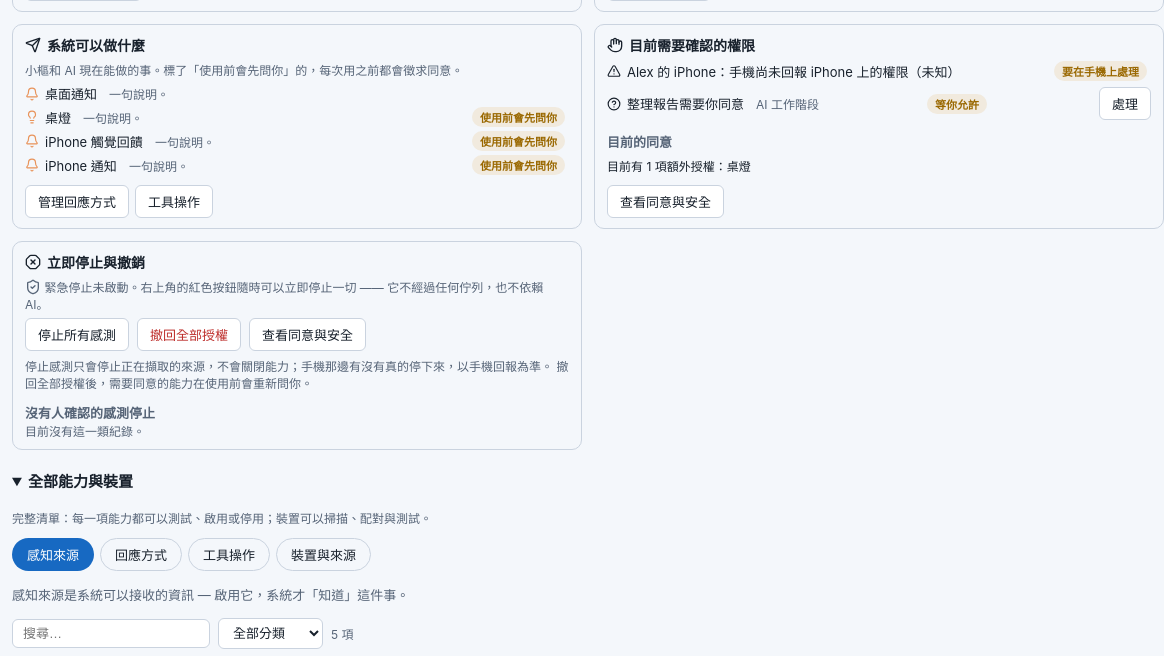
Test: 連接與權限：第一層五區（裝置優先） › 立即停止與撤銷：撤回失敗要說授權狀態未變
The width and height of the screenshot is (1164, 656).
(page scrolled)
Click the button "撤回全部授權" at (189, 334), box x1=137 y1=318 x2=241 y2=351
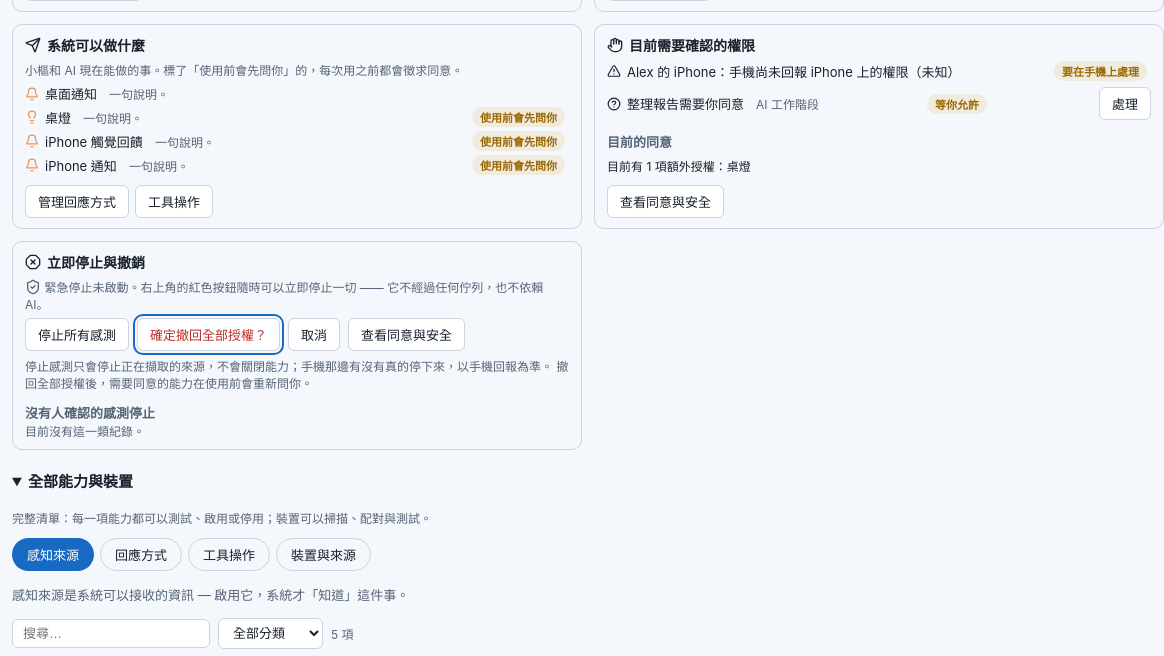
Click the button "確定撤回全部授權？" at (208, 334), box x1=137 y1=318 x2=280 y2=351
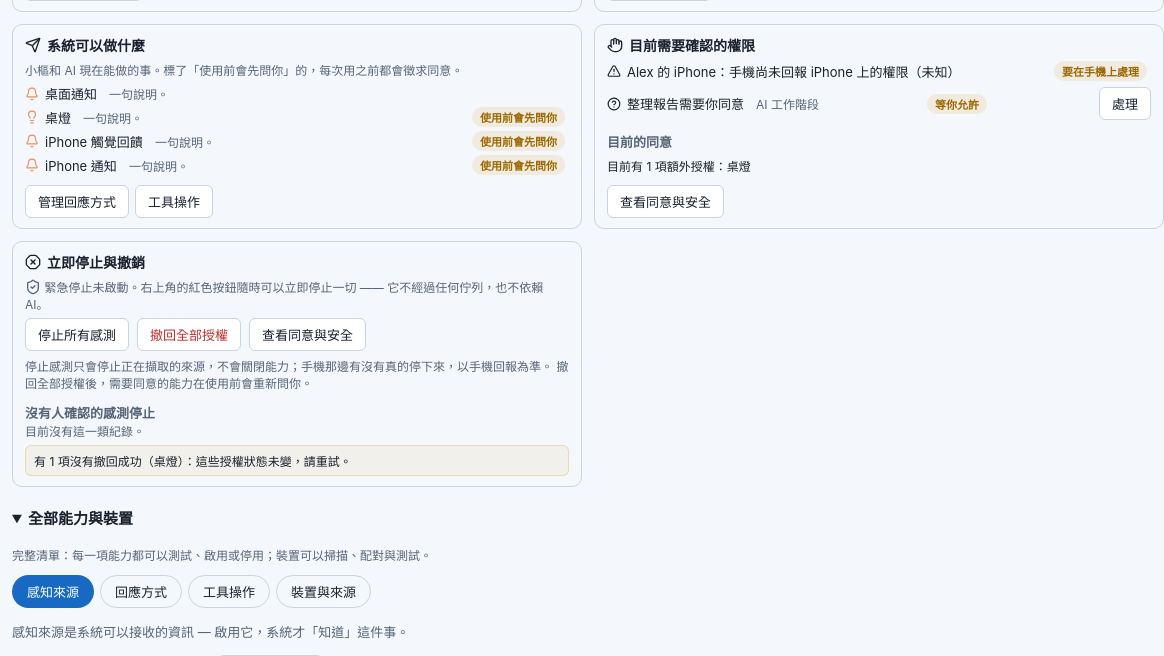
Result: the text "有 1 項沒有撤回成功（桌燈）：這些授權狀態未變，請重試。" is shown at x1=25 y1=445 x2=569 y2=476
